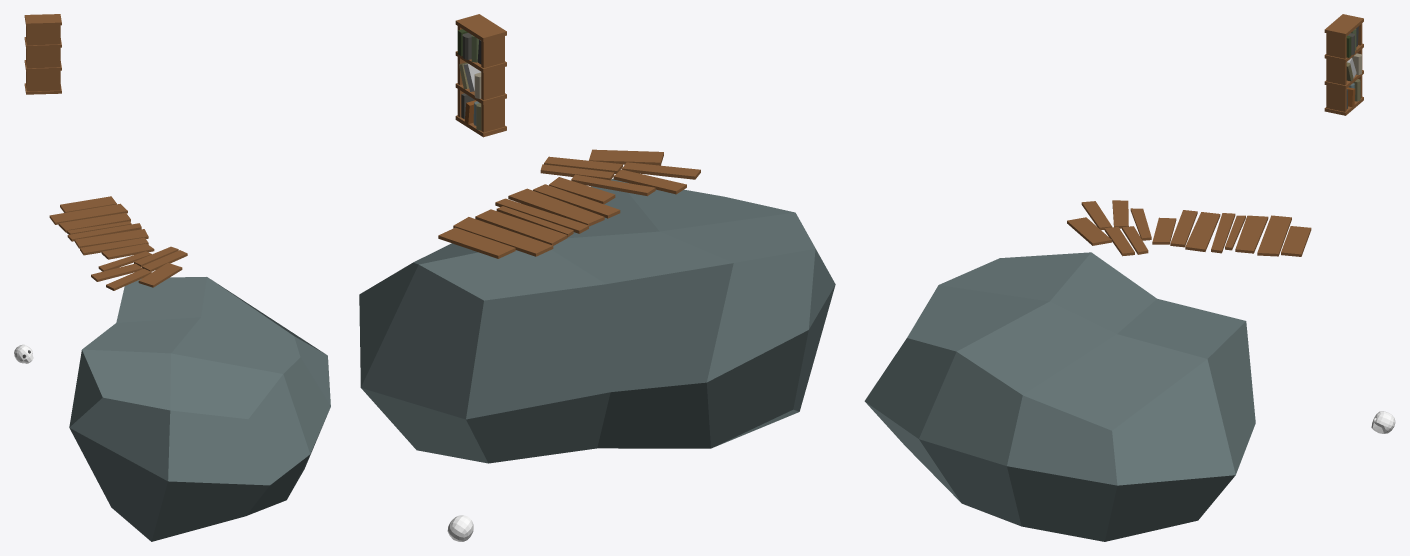
3 renders of one model, left to right at view 1: azimuth 30°, elevation 25°; view 2: azimuth 150°, elevation 25°; view 3: azimuth 270°, elevation 25°, orthographic. The views are drawn at different scales.
Parts seen in each view (by area): view 1: Box148_rock_0, Plane075_brown_0, Box15320_brown_0; view 2: Box148_rock_0, Plane075_brown_0, Box15320_brown_0; view 3: Box148_rock_0, Plane075_brown_0, Box15320_brown_0.
Boxes of the visible parts, left/top/right/bottom form: Box148_rock_0: left=69, top=277, right=330, bottom=541; Plane075_brown_0: left=49, top=196, right=187, bottom=290; Box15320_brown_0: left=24, top=14, right=61, bottom=94; Box148_rock_0: left=359, top=178, right=835, bottom=463; Plane075_brown_0: left=438, top=149, right=700, bottom=258; Box15320_brown_0: left=455, top=14, right=506, bottom=137; Box148_rock_0: left=864, top=252, right=1255, bottom=541; Plane075_brown_0: left=1067, top=200, right=1311, bottom=256; Box15320_brown_0: left=1324, top=14, right=1363, bottom=115.
Bounding box in the file's own units: 1124 × 1493 × 1545.
